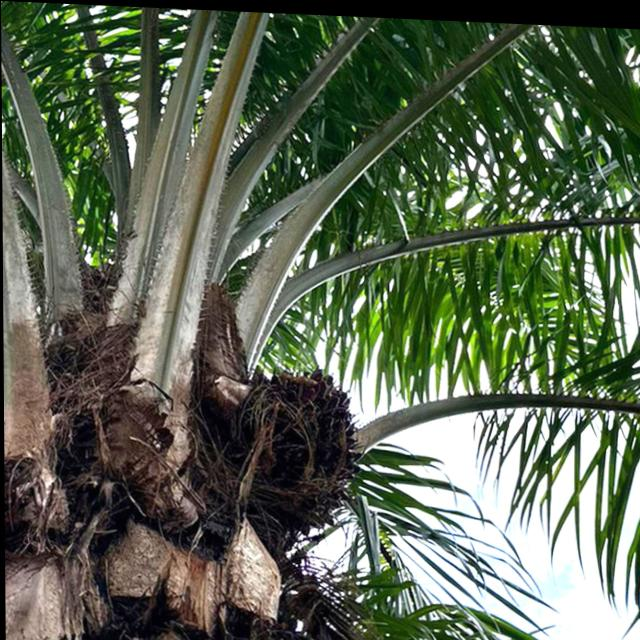ripe: (226, 357, 353, 500)
